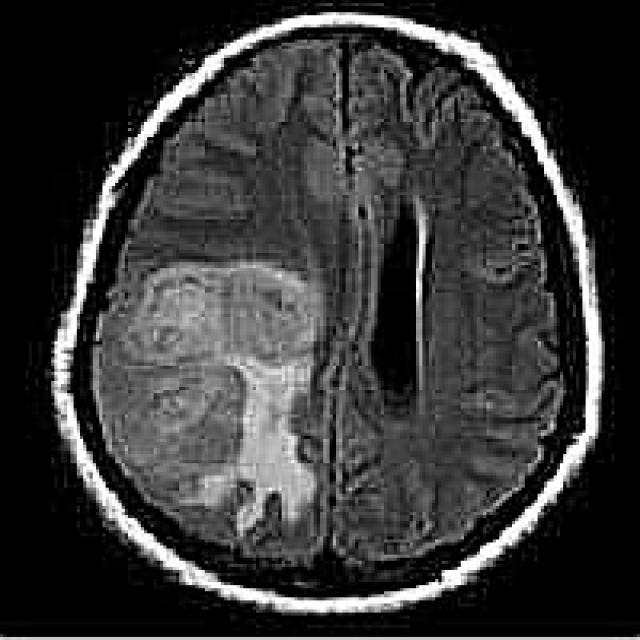Tumor-Cell: (137, 273, 300, 522)
